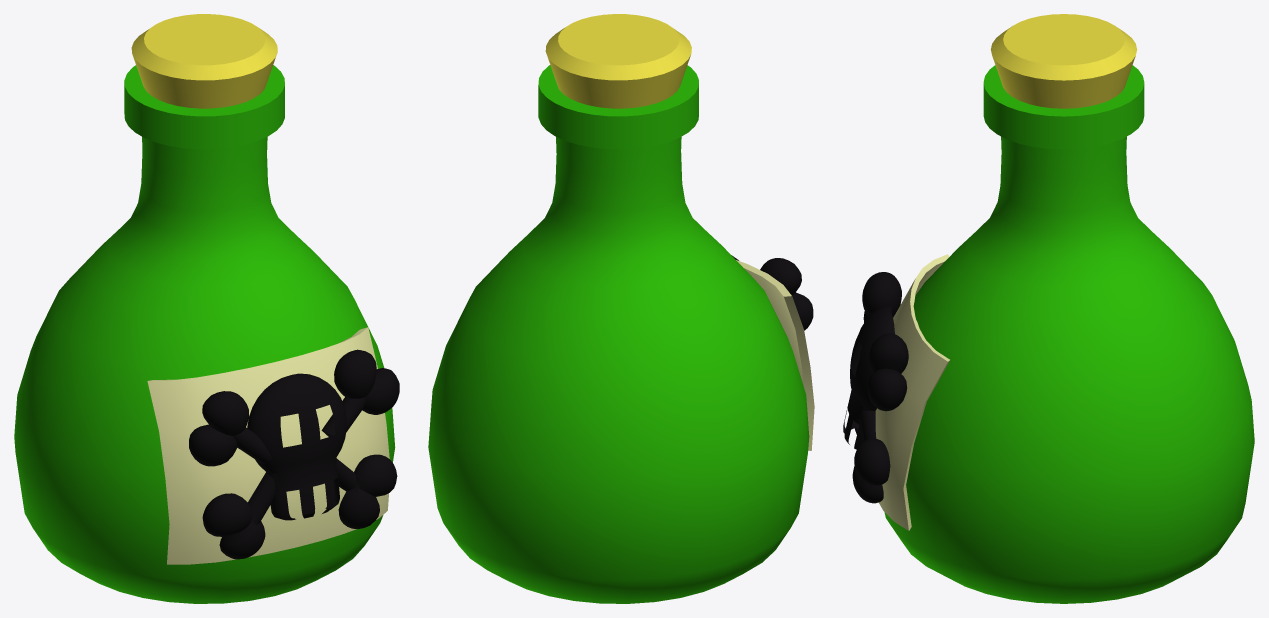
Rendered from PoisonBottle.fbx.
3 renders of one model, left to right at view 1: azimuth 30°, elevation 25°; view 2: azimuth 150°, elevation 25°; view 3: azimuth 270°, elevation 25°, orthographic.
Parts seen in each view (by area): view 1: PoisonBottle; view 2: PoisonBottle; view 3: PoisonBottle.
Part boxes in pixels (box(x1,y1,x2,y2)): PoisonBottle: box(14, 14, 399, 603); PoisonBottle: box(428, 14, 814, 603); PoisonBottle: box(843, 14, 1254, 603).
Size of the model in its own units: 0.9321 by 1.36 by 1.01.
